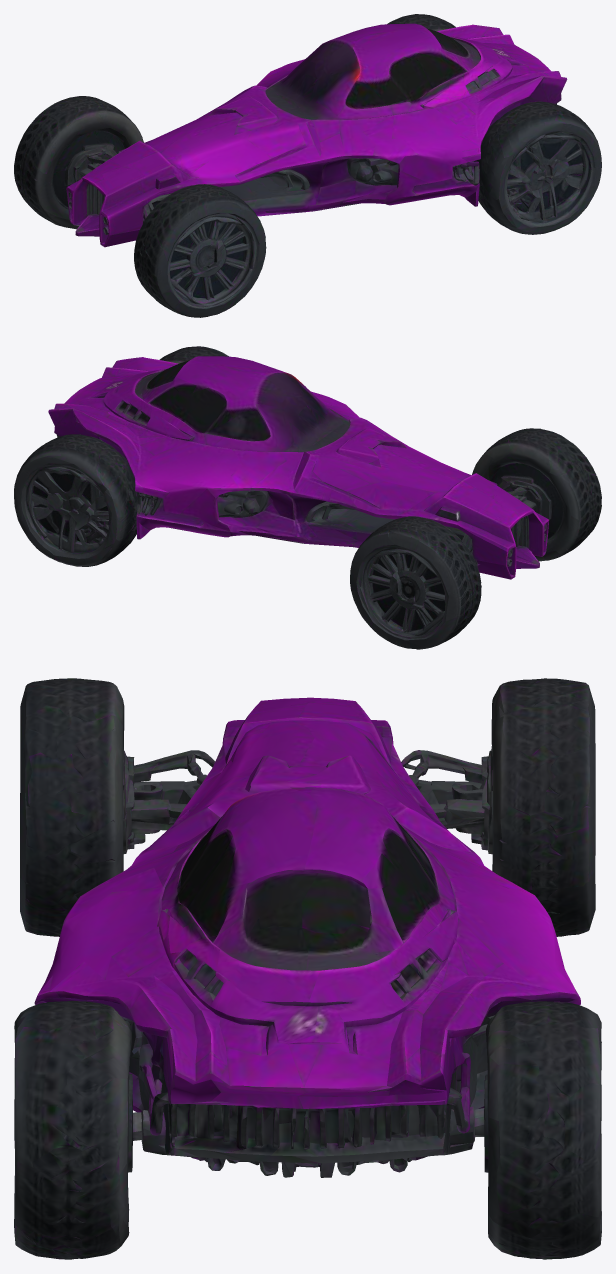
The model's file is purpleCar.f9c92fbf.glb.
The picture shows the model from 3 angles, top to bottom: view 1: azimuth 30°, elevation 25°; view 2: azimuth 150°, elevation 25°; view 3: azimuth 270°, elevation 25°; orthographic projection. The views are drawn at different scales.
Visible parts, largest first — view 1: chassis_body, wheel_fr, wheel_rr; view 2: chassis_body, wheel_fl, wheel_rl; view 3: chassis_body, wheel_rr, wheel_rl.
Part boxes in pixels (x1=…): chassis_body: x1=14, y1=14, x2=601, y2=317; wheel_fr: x1=451, y1=177, x2=525, y2=232; wheel_rr: x1=229, y1=244, x2=266, y2=302; chassis_body: x1=14, y1=346, x2=601, y2=649; wheel_fl: x1=93, y1=509, x2=161, y2=565; wheel_rl: x1=350, y1=573, x2=386, y2=634; chassis_body: x1=14, y1=678, x2=601, y2=1259; wheel_rr: x1=20, y1=819, x2=131, y2=936; wheel_rl: x1=484, y1=825, x2=595, y2=936.
Bounding box in the file's own units: 1.9 × 0.6816 × 1.07.
1 material, 1 textured.
